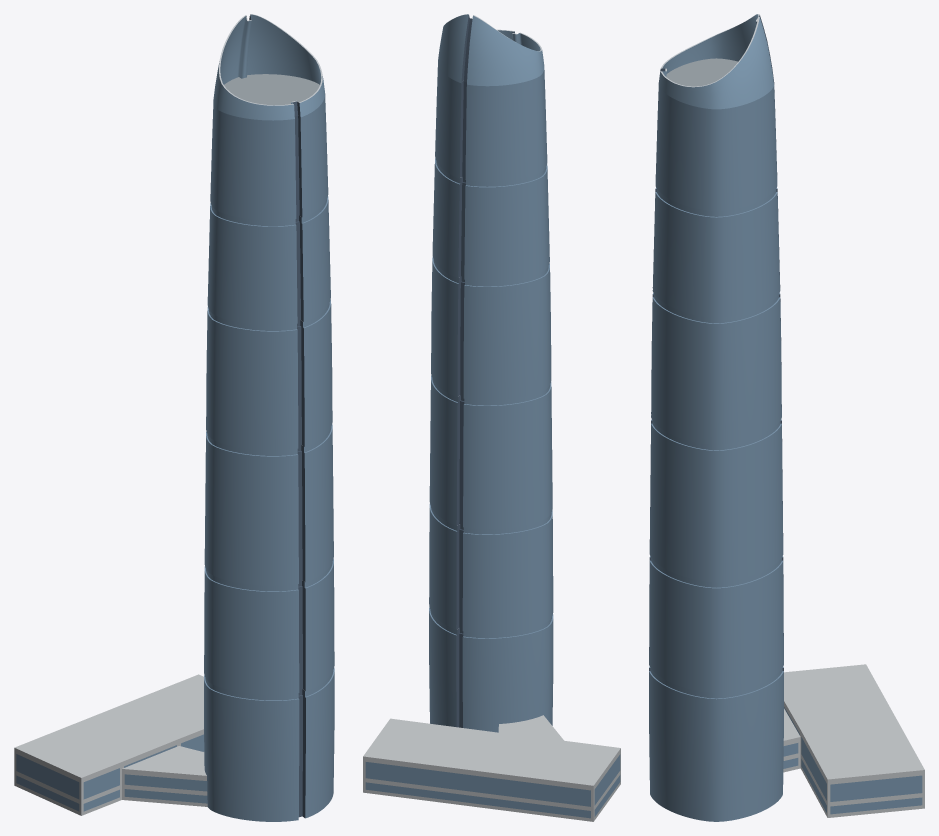
Rendered from wuhan-center.glb.
The picture shows the model from 3 angles, left to right: view 1: azimuth 30°, elevation 25°; view 2: azimuth 150°, elevation 25°; view 3: azimuth 270°, elevation 25°; orthographic projection. The views are drawn at different scales.
Visible parts, largest first — view 1: Wuhan Center; view 2: Wuhan Center; view 3: Wuhan Center.
Boxes of the visible parts, x1=… form: Wuhan Center: x1=14, y1=14, x2=334, y2=821; Wuhan Center: x1=363, y1=14, x2=620, y2=821; Wuhan Center: x1=649, y1=14, x2=924, y2=821.
Bounding box in the file's own units: 146 × 443 × 143.
